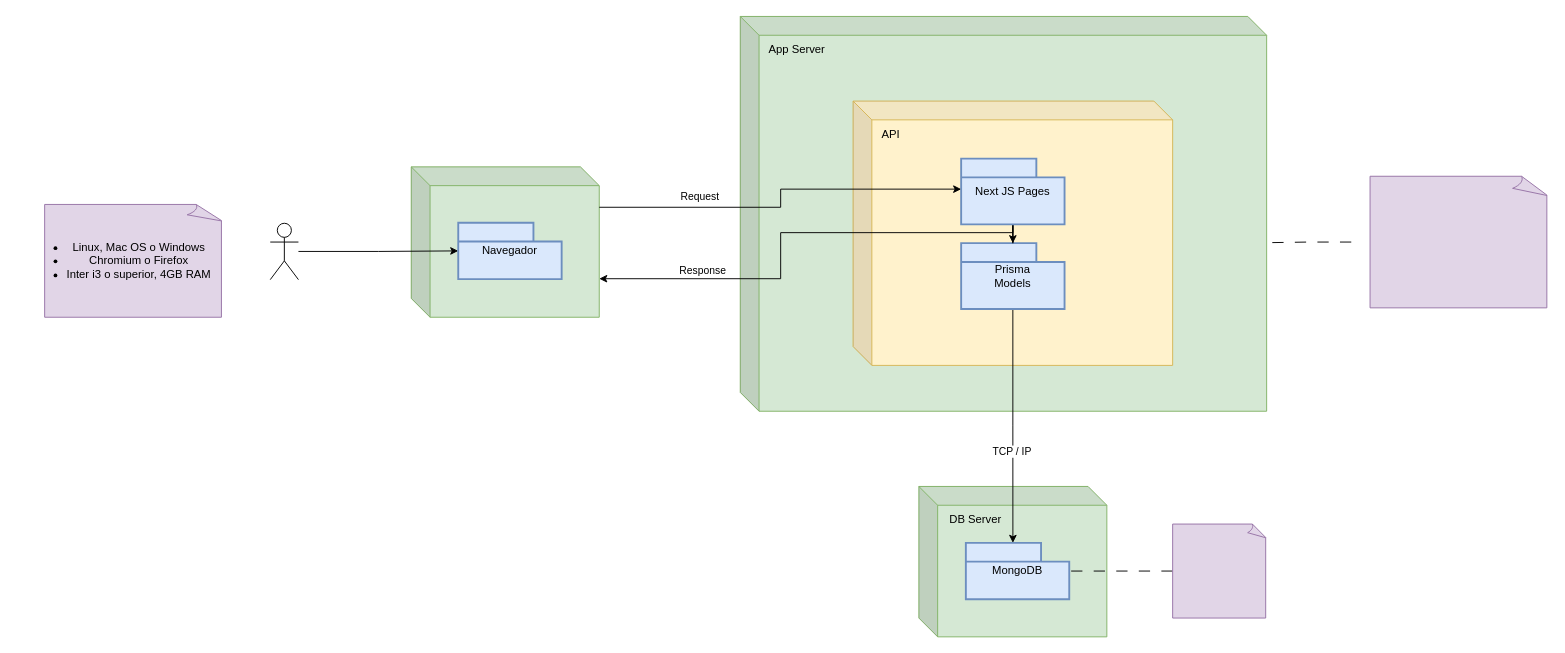
Some shapes in this 1565 by 653 pixel diagram are drawn without their labels. Each missing label, with the box of its shape:
Actor: (269, 222, 298, 280)
Debian 12 Next JS 13 MongoDB 6 Hosted on Google Cloud: (1369, 175, 1549, 308)
MongoDB 6.0: (1172, 523, 1267, 618)
